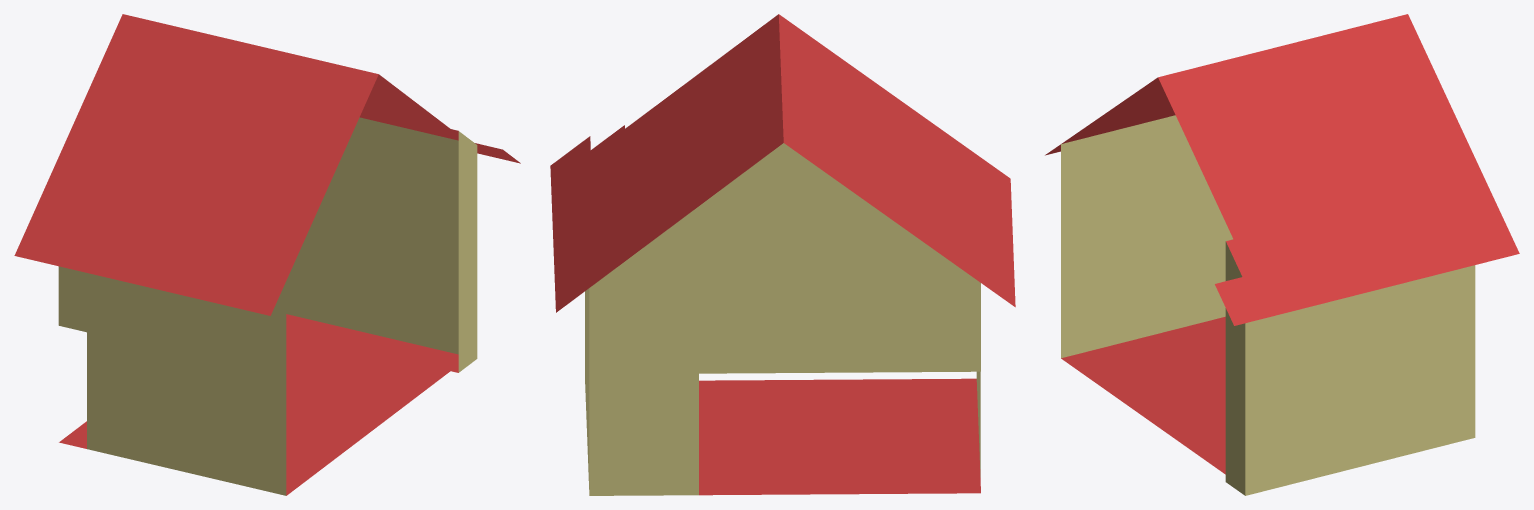
3 renders of one model, left to right at view 1: azimuth 30°, elevation 25°; view 2: azimuth 150°, elevation 25°; view 3: azimuth 270°, elevation 25°, orthographic. The views are drawn at different scales.
Size of the model in its own units: 16.89 by 14.67 by 11.89.
